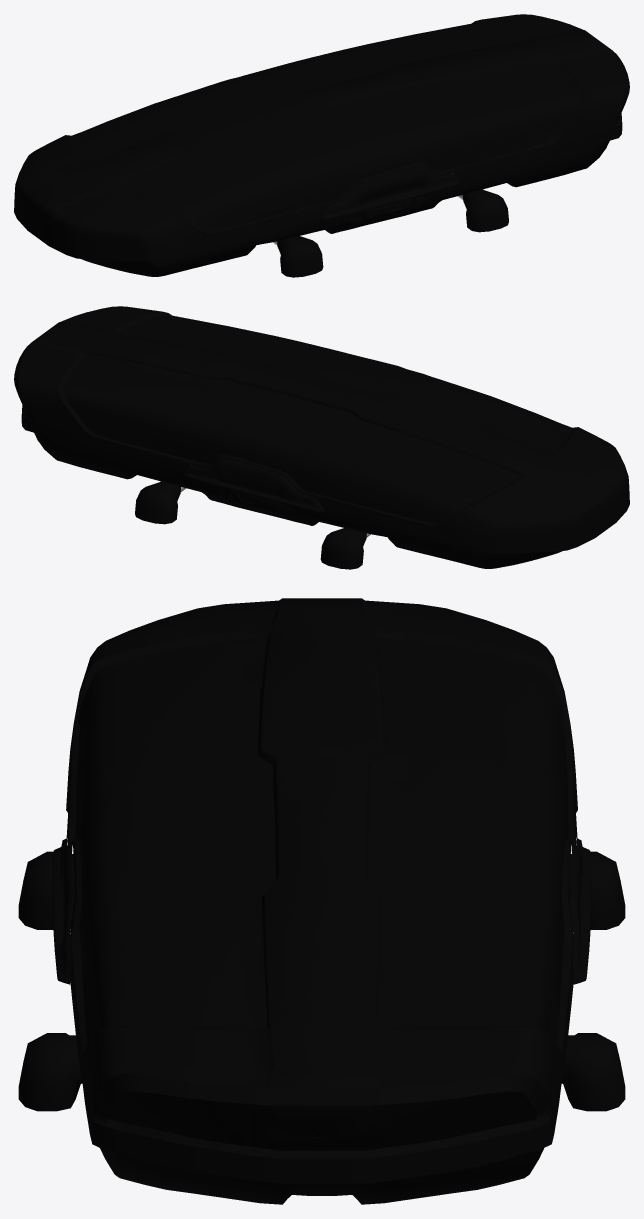
The model's file is Thule Motion XT Alpine 629500-Low_v14-anime.glb.
3 views of the same model, one above another, from view 1: azimuth 30°, elevation 25°; view 2: azimuth 150°, elevation 25°; view 3: azimuth 270°, elevation 25° (orthographic). The views are drawn at different scales.
Visible parts, largest first — view 1: Thule_motion_XT_Alpine_low, Box013, Box011; view 2: Thule_motion_XT_Alpine_low, Box012, Box010; view 3: Thule_motion_XT_Alpine_low, Box013, Box012, Box011, Box010.
Boxes of the visible parts, bbox=[...] form: Thule_motion_XT_Alpine_low: bbox=[14, 14, 629, 276]; Box013: bbox=[463, 189, 508, 232]; Box011: bbox=[277, 236, 323, 277]; Thule_motion_XT_Alpine_low: bbox=[14, 306, 629, 568]; Box012: bbox=[135, 481, 180, 524]; Box010: bbox=[320, 528, 366, 569]; Thule_motion_XT_Alpine_low: bbox=[52, 598, 591, 1204]; Box013: bbox=[18, 1033, 82, 1111]; Box012: bbox=[561, 1033, 625, 1111]; Box011: bbox=[18, 851, 74, 929]; Box010: bbox=[569, 851, 625, 929].
Size of the model in its own units: 0.2285 by 0.0391 by 0.106.
Materials: 4 (2 with a texture image).
